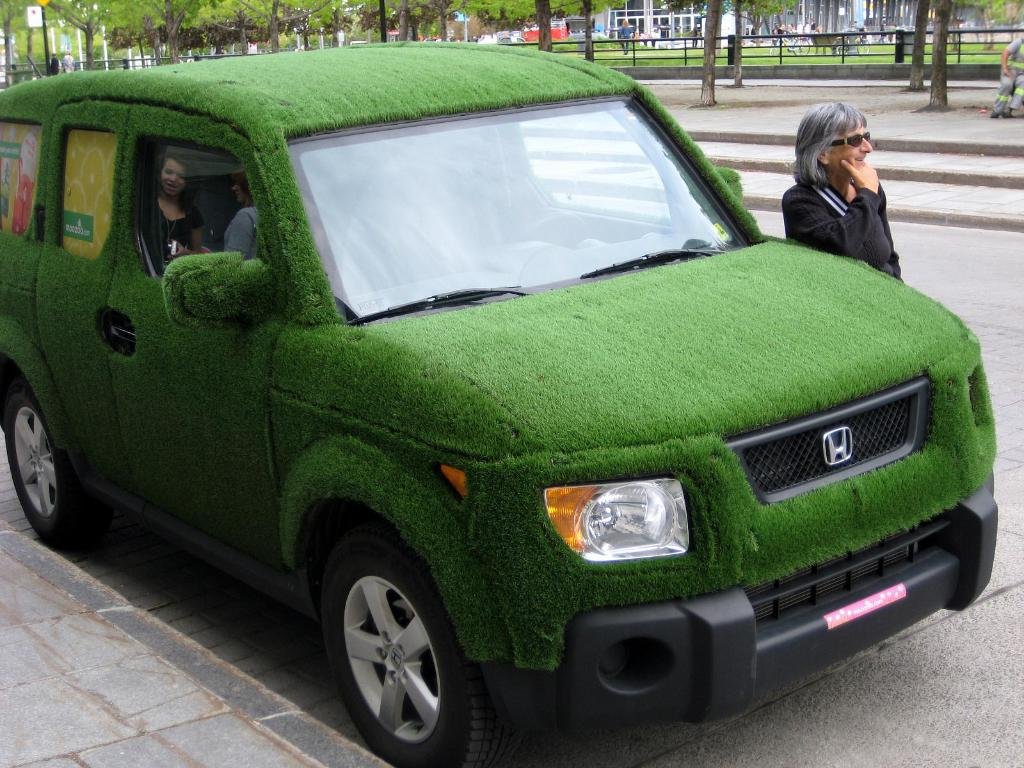Person: (994, 27, 1024, 118)
